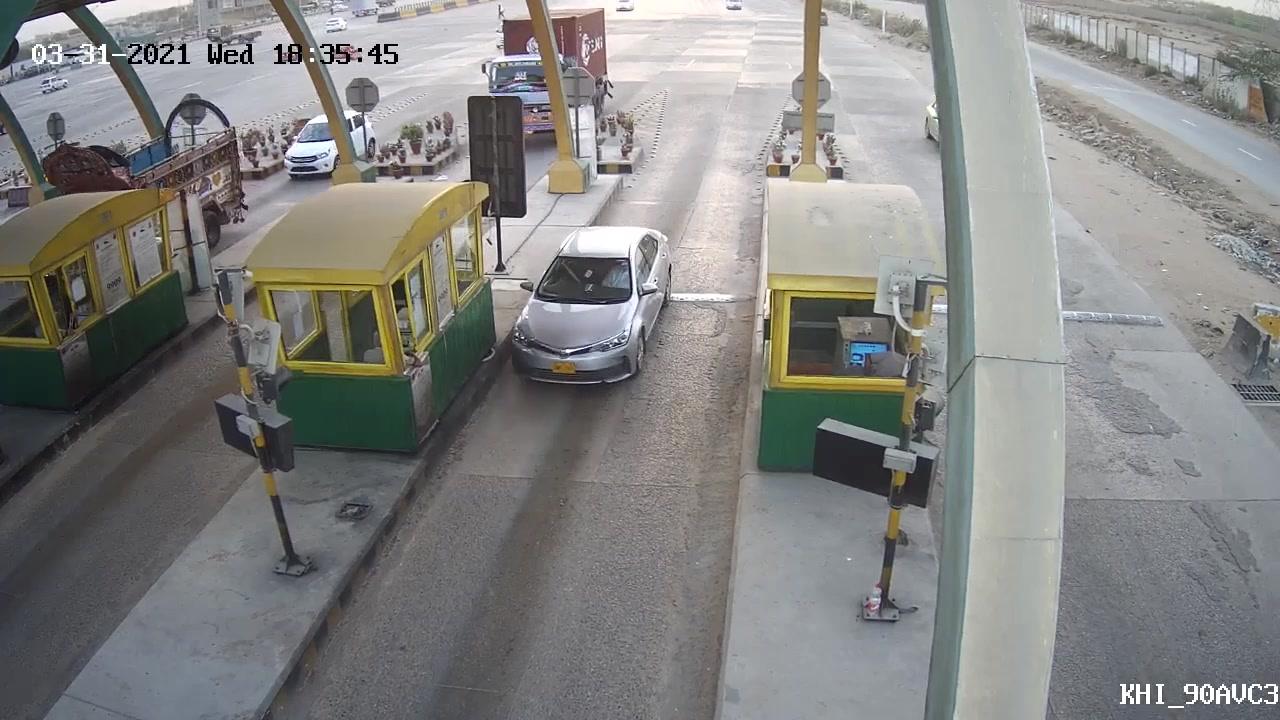F1: (503, 218, 678, 392)
